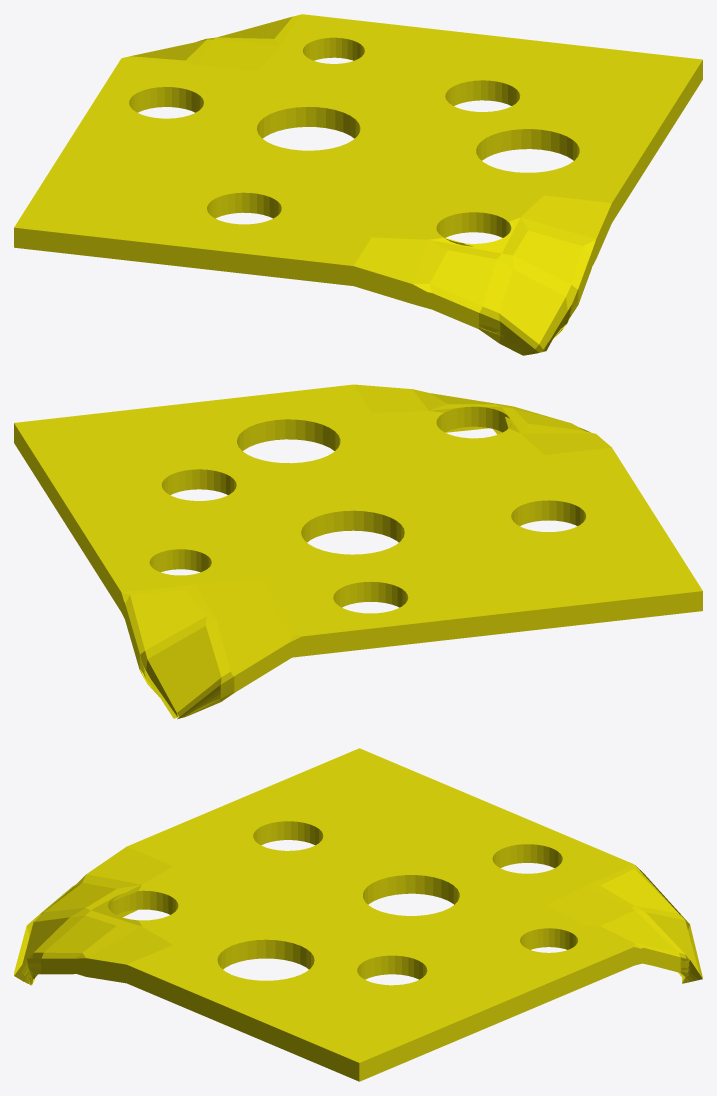
File: cheese.fbx
3 views of the same model, one above another, from view 1: azimuth 30°, elevation 25°; view 2: azimuth 150°, elevation 25°; view 3: azimuth 270°, elevation 25° (orthographic). The views are drawn at different scales.
Visible parts, largest first — view 1: cheese; view 2: cheese; view 3: cheese.
Part boxes in pixels (x1,y1,x2,y2): cheese: (14, 14, 702, 355); cheese: (14, 384, 702, 719); cheese: (14, 748, 702, 1081).
Size of the model in its own units: 37.11 by 4.29 by 34.32.
